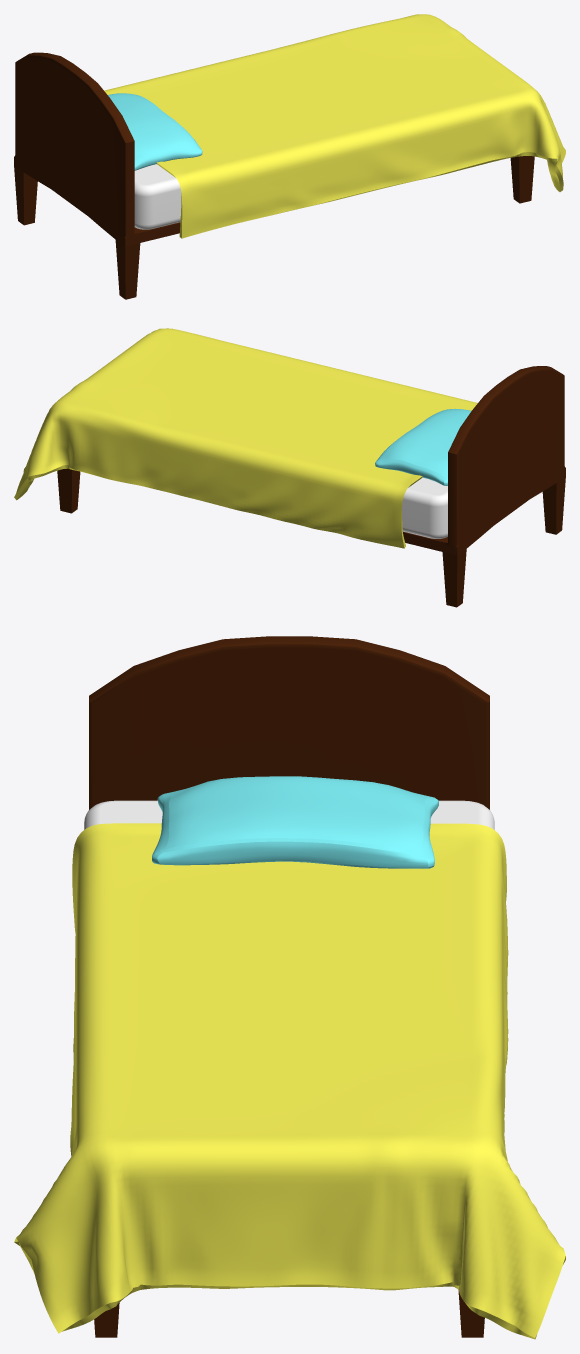
The model's file is BedModel.obj.
3 renders of one model, top to bottom at view 1: azimuth 30°, elevation 25°; view 2: azimuth 150°, elevation 25°; view 3: azimuth 270°, elevation 25°, orthographic. The views are drawn at different scales.
Parts seen in each view (by area): view 1: BedModel; view 2: BedModel; view 3: BedModel.
Part boxes in pixels (box(x1,y1,x2,y2)): BedModel: box(14, 14, 565, 299); BedModel: box(14, 328, 565, 607); BedModel: box(14, 636, 565, 1339).
Bounding box in the file's own units: 82.31 × 33.63 × 48.82.
